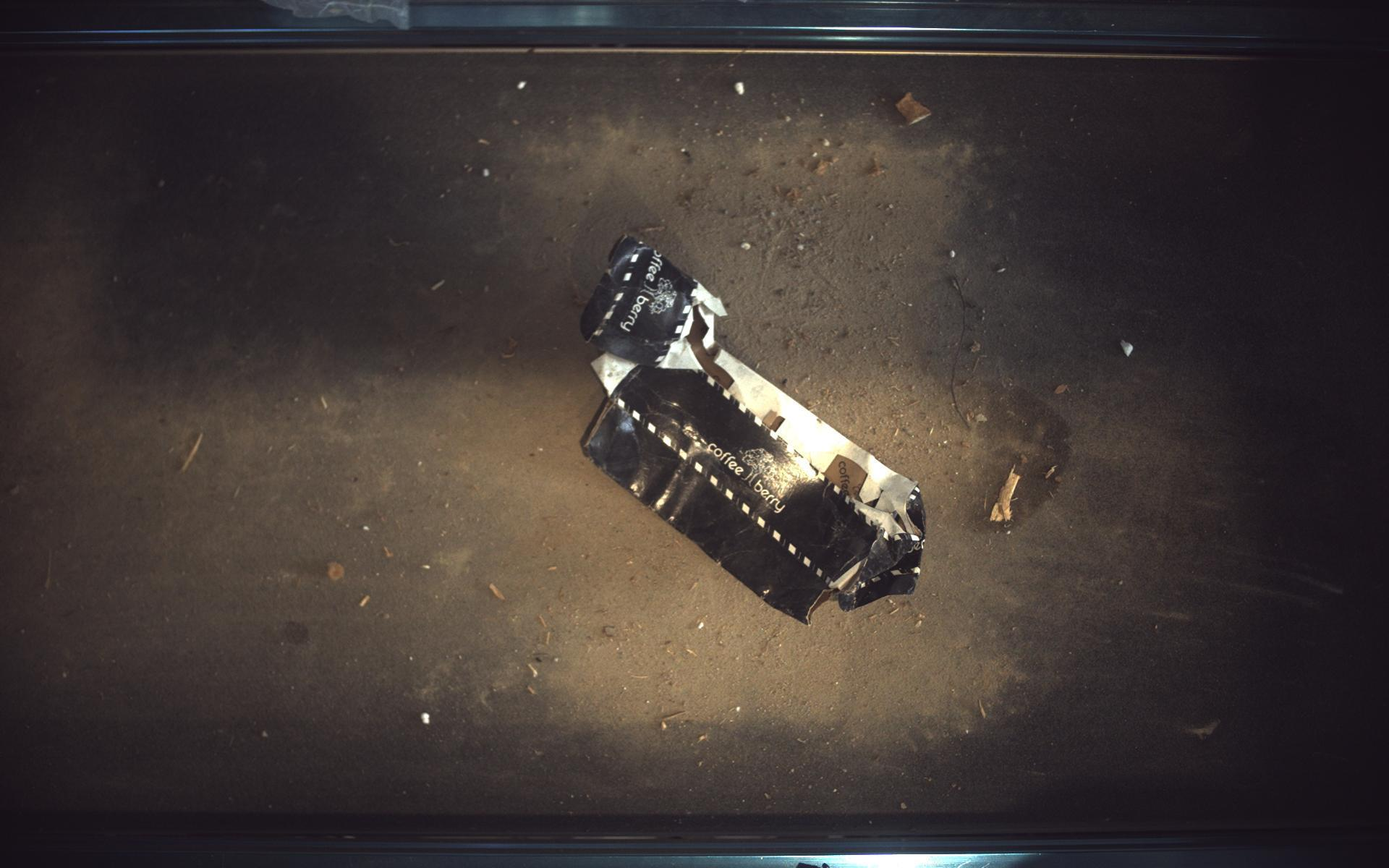general_w: (581, 236, 927, 624)
